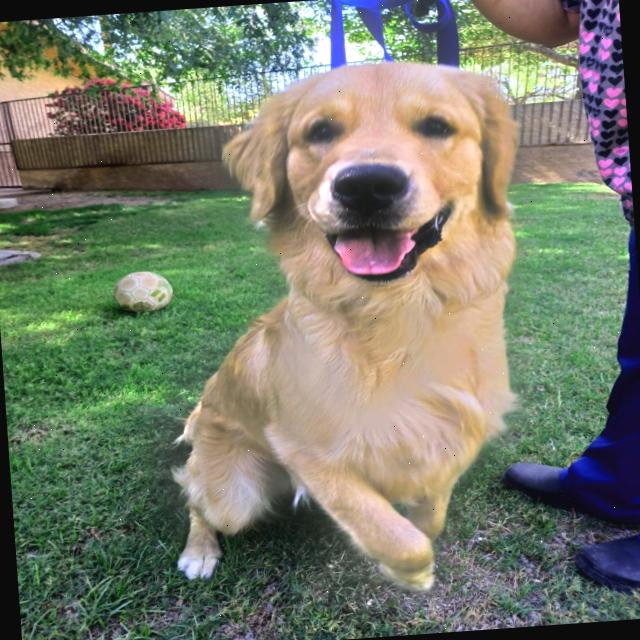golden_retriever_dog: (203, 36, 539, 306)
